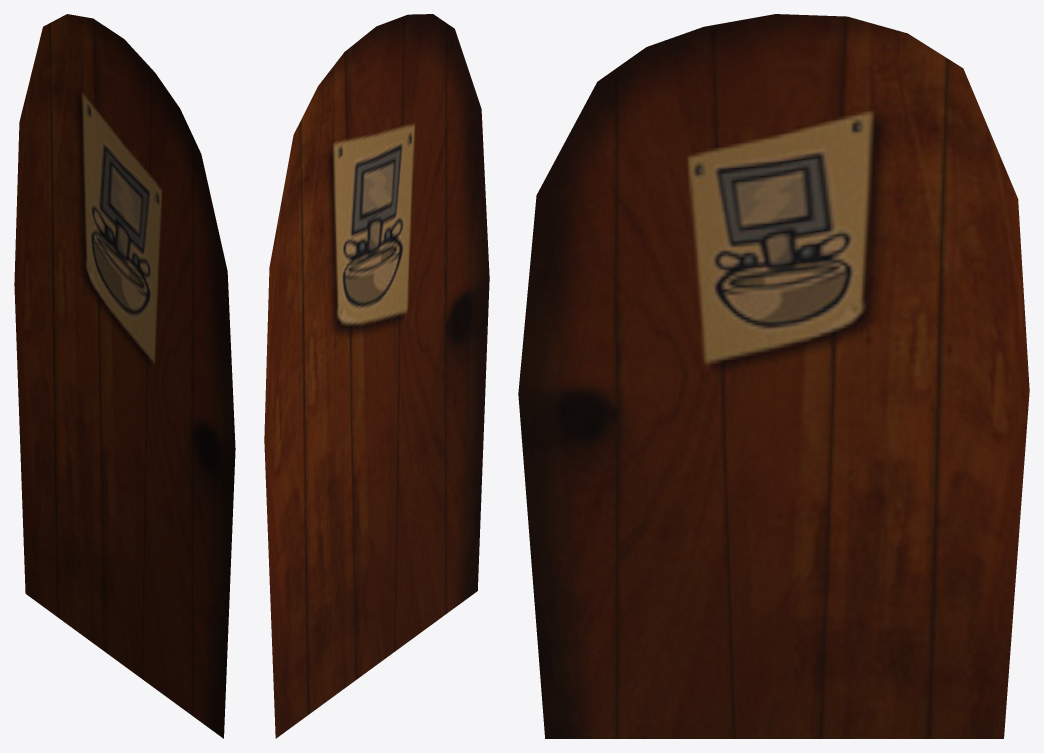
Rendered from bedroom_bathroomdoor.dae.
The picture shows the model from 3 angles, left to right: view 1: azimuth 30°, elevation 25°; view 2: azimuth 150°, elevation 25°; view 3: azimuth 270°, elevation 25°; orthographic projection. The views are drawn at different scales.
Visible parts, largest first — view 1: BigDoor; view 2: BigDoor; view 3: BigDoor.
Part boxes in pixels (box(x1,y1,x2,y2)): BigDoor: box(14, 14, 235, 738); BigDoor: box(264, 14, 489, 738); BigDoor: box(518, 14, 1029, 738).
Size of the model in its own units: 3.09e-15 by 11.6 by 7.41.
Materials: 1 (1 with a texture image).
